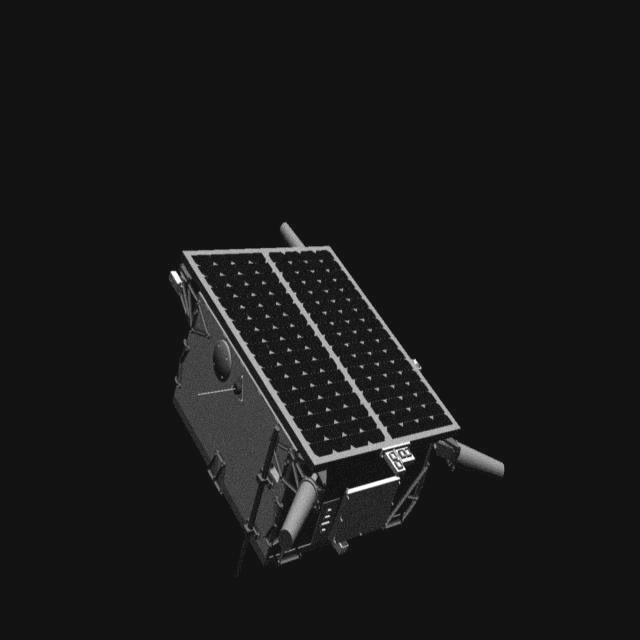satellite: (158, 216, 512, 582)
